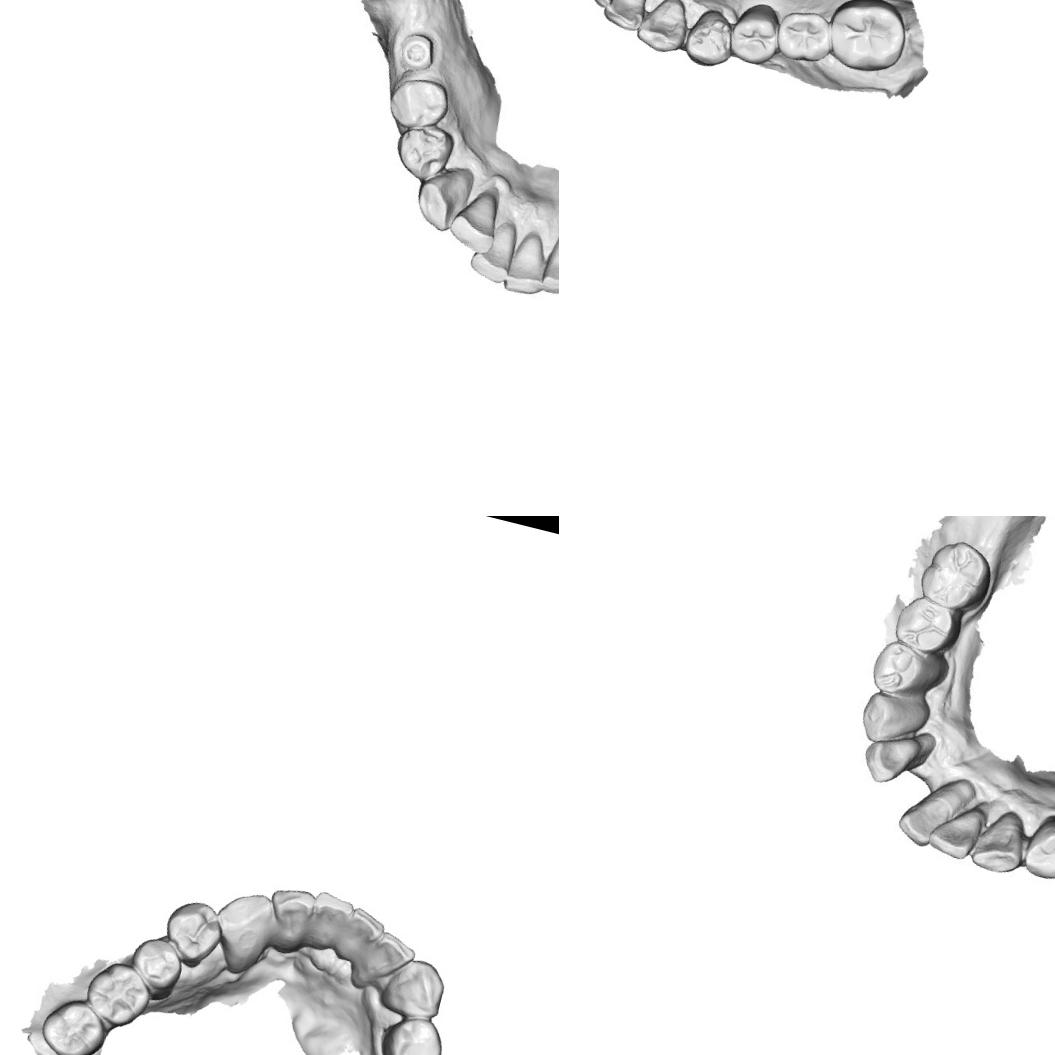canine: (201, 881, 282, 980), (370, 950, 452, 1026), (853, 681, 934, 755), (407, 159, 478, 243), (962, 801, 1033, 881), (632, 0, 694, 58)
implant: (394, 20, 444, 78)
incisor: (890, 776, 964, 853), (256, 880, 322, 958), (447, 185, 510, 266), (856, 724, 927, 792), (500, 227, 559, 303), (468, 212, 522, 289), (358, 924, 421, 990), (331, 900, 388, 968), (304, 888, 360, 957), (924, 801, 983, 866), (596, 0, 653, 35), (537, 228, 559, 293)
molar: (912, 528, 1000, 620), (824, 0, 916, 78), (78, 952, 158, 1034), (32, 990, 114, 1055), (772, 2, 838, 68)
premolar: (154, 893, 228, 973), (886, 588, 962, 664), (387, 112, 462, 188), (862, 634, 940, 702), (121, 929, 187, 1002), (677, 2, 742, 72), (383, 71, 452, 136), (724, 0, 788, 69), (372, 1006, 452, 1055), (1020, 806, 1055, 885)
